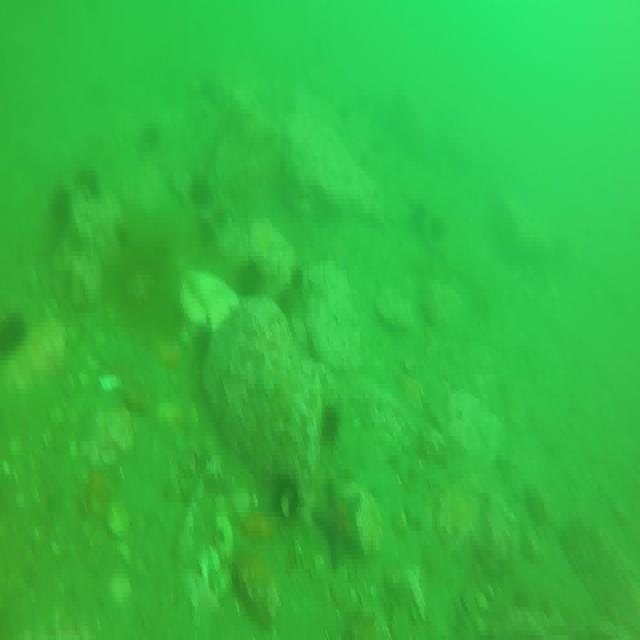echinus: (0, 316, 30, 359), (240, 255, 266, 302), (48, 185, 70, 240), (278, 476, 300, 526), (81, 162, 101, 208), (192, 172, 213, 214), (320, 397, 339, 442)
starfish: (312, 478, 364, 572)
